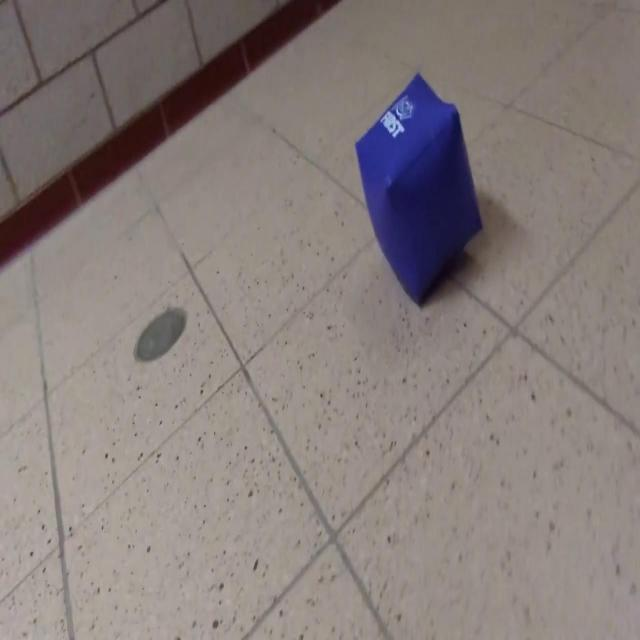frc_cube: (354, 79, 483, 306)
